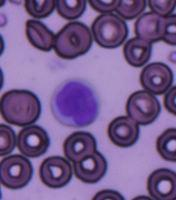M: (50, 77, 102, 127)
